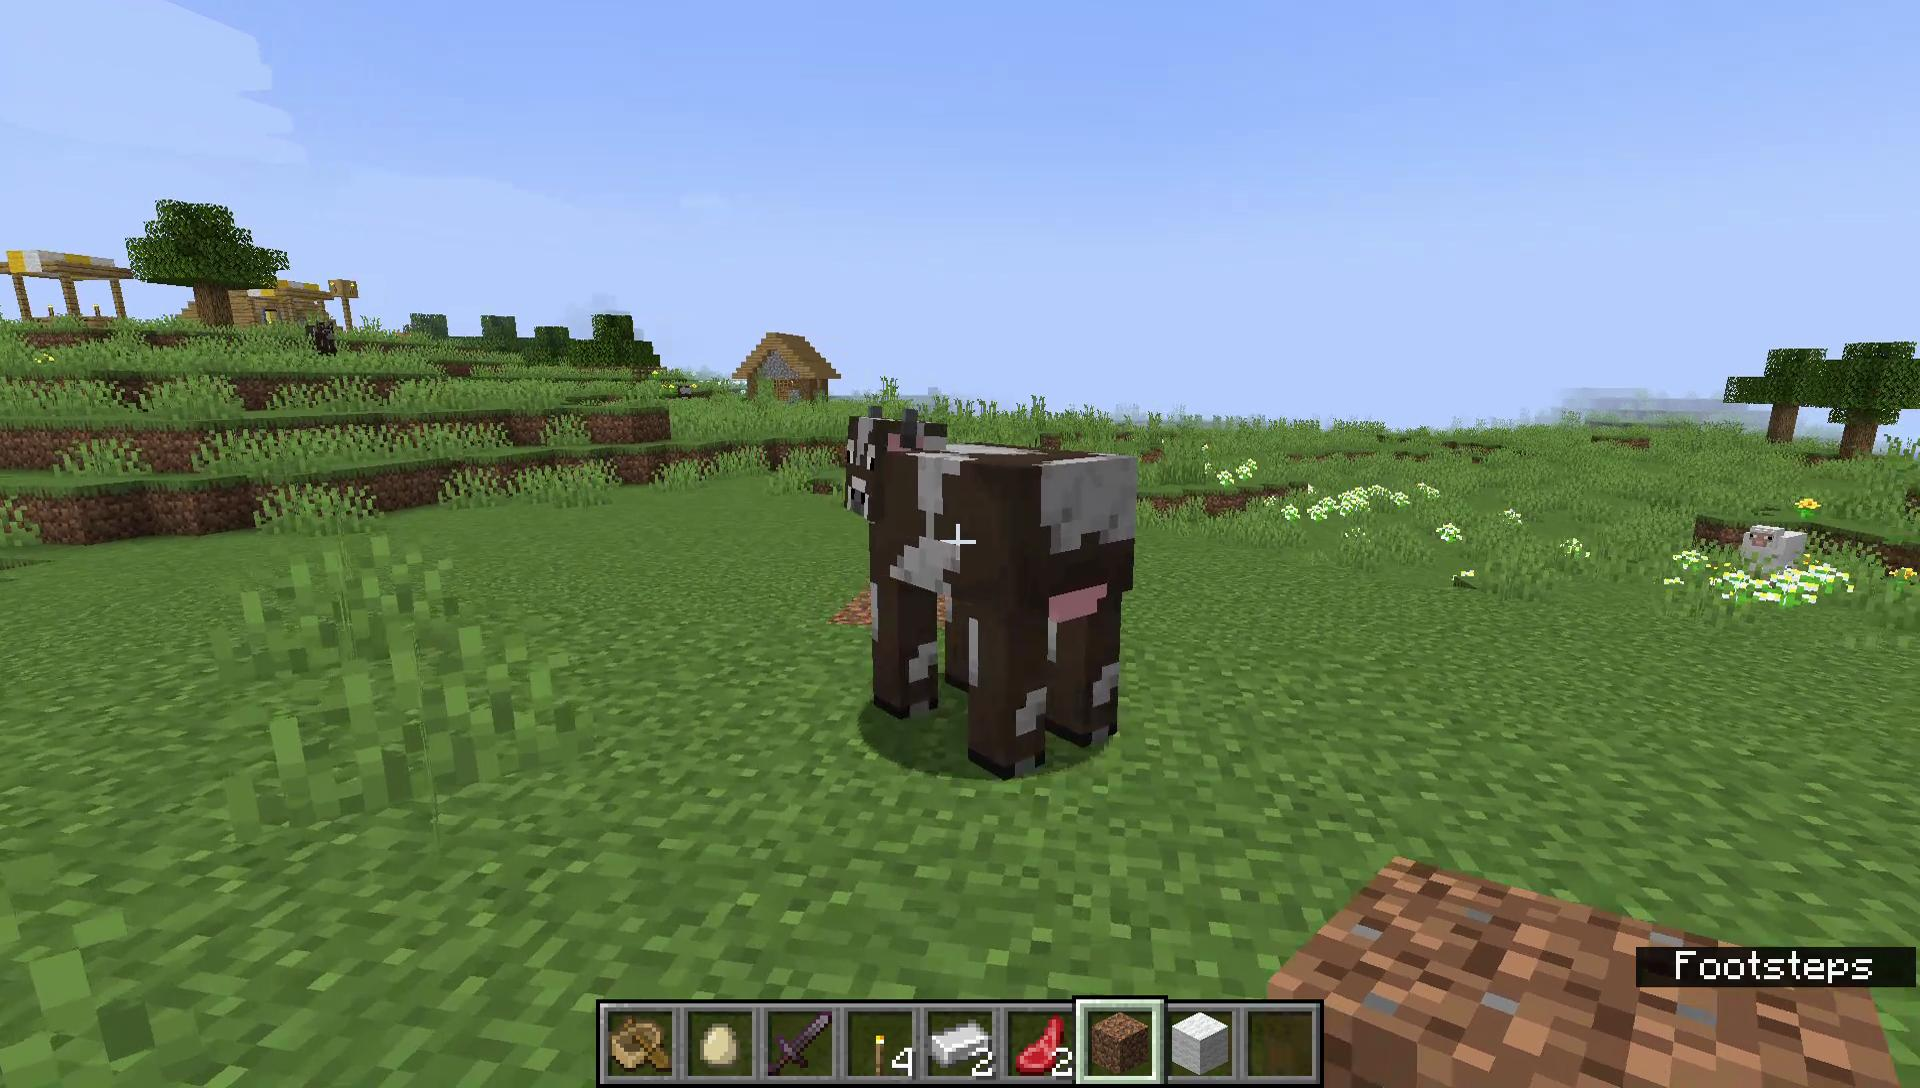cow: (841, 400, 1143, 785)
